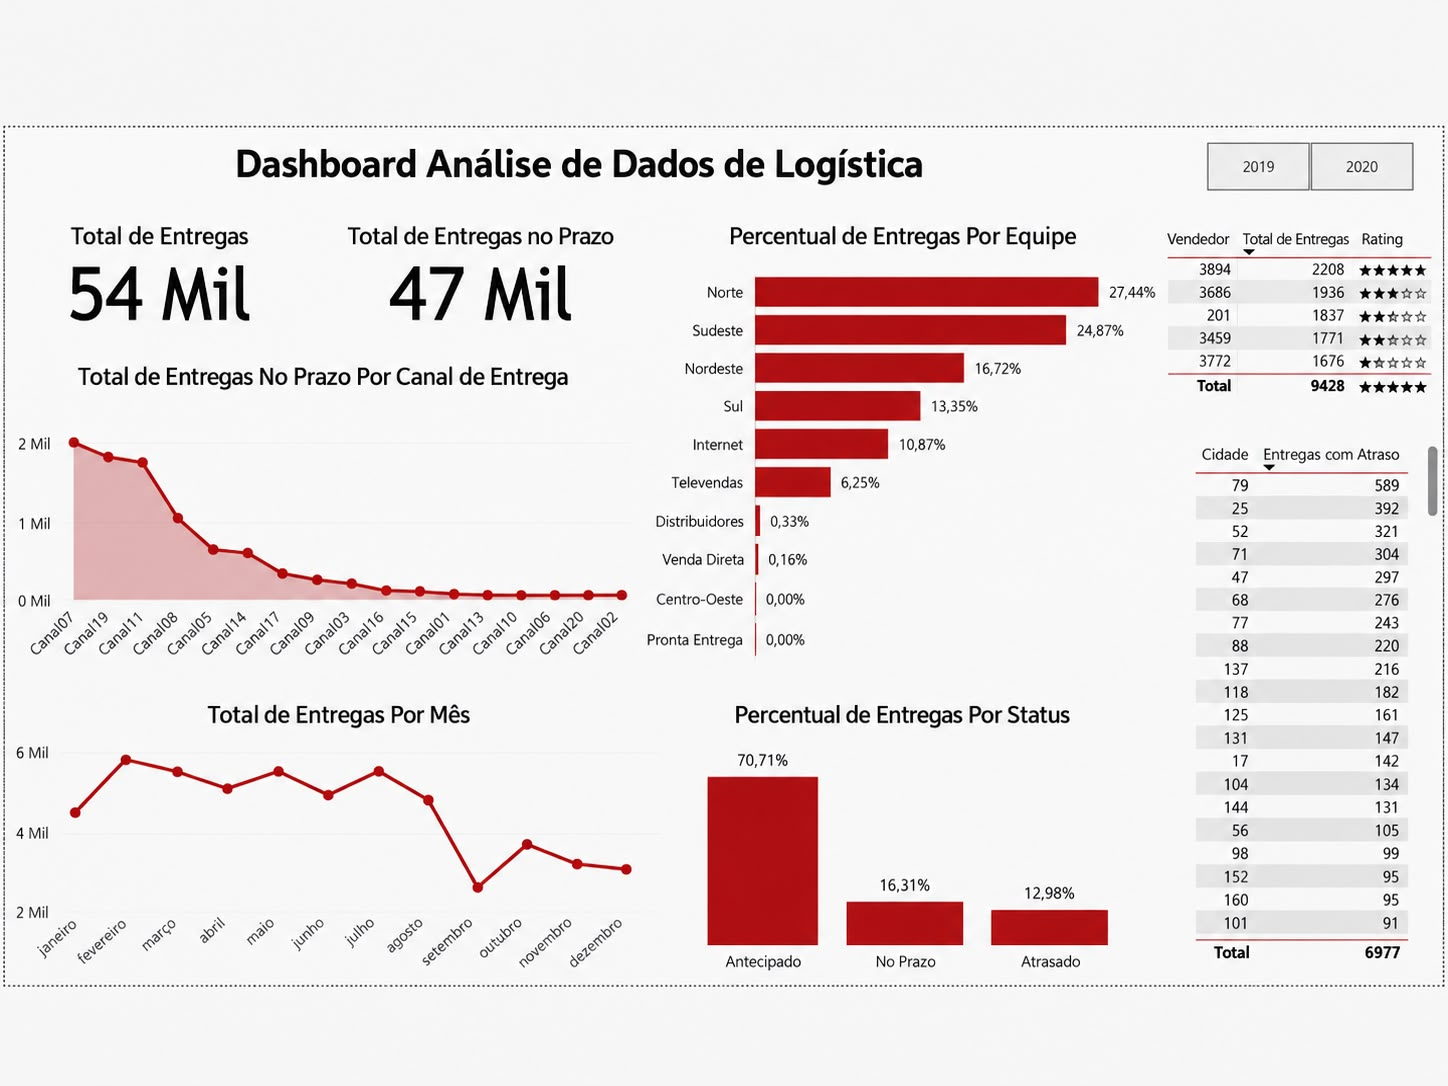

What the dashboard file says about the page in this screenshot:
{"tool":"powerbi","page":{"name":"Dashboard","canvas":[1280,720],"ordinal":0},"visuals":[{"type":"areaChart","title":"Total de Entregas No Prazo Por Canal de Entrega","fields":{"Category":["Logistica.Canal_Entrega"],"Y":["Medidas.TotalEntregas"]},"box":[0,204.3,557.3,255.7],"z":0},{"type":"clusteredBarChart","title":"Percentual de Entregas Por Equipe","fields":{"Category":["Logistica.Equipe_Entrega"],"Y":["Medidas.TotalEntregas"]},"box":[557.3,86.2,460,391.9],"z":1000},{"type":"lineChart","title":"Total de Entregas Por Mês","fields":{"Category":["Logistica.Data_Entrega_Realizada.Variation.Hierarquia de datas.Mês"],"Y":["Medidas.TotalEntregas"]},"box":[0,492,562.9,227.9],"z":2000},{"type":"tableEx","fields":{"Values":["Logistica.ID_Vendedor","Medidas.TotalEntregas","Medidas.Classificação por estrelas TotalEntregas"]},"box":[1017.3,86.2,264.1,196],"z":3000},{"type":"columnChart","title":"Percentual de Entregas Por Status","fields":{"Category":["Logistica.Status_Entrega"],"Y":["Medidas.TotalEntregas"]},"box":[557.3,493.4,460,226.5],"z":4000},{"type":"tableEx","fields":{"Values":["Logistica.ID_Cidade","Medidas.TotalEntregas"]},"box":[1049.9,282.2,229.5,439],"z":5000},{"type":"slicer","fields":{"Values":["Logistica.Data_Entrega_Realizada.Variation.Hierarquia de datas.Ano"]},"box":[1034.8,8.8,228.3,53.9],"z":6000},{"type":"card","title":"Total de Entregas","fields":{"Values":["Medidas.TotalEntregas"]},"box":[0,86.2,273.8,86.2],"z":7000},{"type":"textbox","box":[0,8.8,1017.3,53.9],"z":8000},{"type":"card","title":"Total de Entregas no Prazo","fields":{"Values":["Medidas.TotalEntregaPrazo"]},"box":[273.8,86.2,283.5,86.2],"z":9000}]}

Visuals, with their boxes on the page's 1280x720 design canvas (x1, y1, x2, y2). These are canvas units, not pixel positions in the 1448x1086 screenshot, which may show the page scaled, cropped or inside an application window:
"Total de Entregas No Prazo Por Canal de Entrega" areaChart: bbox=[0, 204, 557, 460]
"Percentual de Entregas Por Equipe" clusteredBarChart: bbox=[557, 86, 1017, 478]
"Total de Entregas Por Mês" lineChart: bbox=[0, 492, 563, 720]
tableEx - Logistica.ID_Vendedor x Medidas.TotalEntregas: bbox=[1017, 86, 1281, 282]
"Percentual de Entregas Por Status" columnChart: bbox=[557, 493, 1017, 720]
tableEx - Logistica.ID_Cidade x Medidas.TotalEntregas: bbox=[1050, 282, 1279, 721]
slicer - Logistica.Data_Entrega_Realizada.Variation.Hierarquia de datas.Ano: bbox=[1035, 9, 1263, 63]
"Total de Entregas" card: bbox=[0, 86, 274, 172]
textbox: bbox=[0, 9, 1017, 63]
"Total de Entregas no Prazo" card: bbox=[274, 86, 557, 172]
